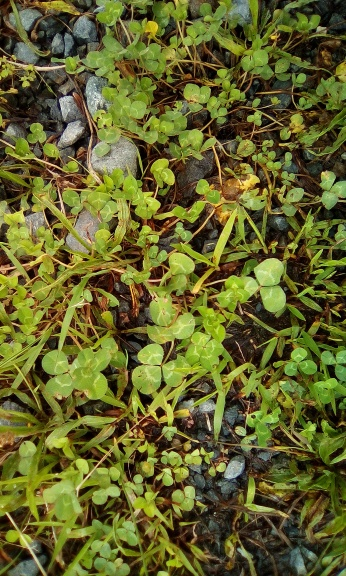4leaf: (184, 331, 224, 374), (216, 275, 251, 313), (197, 306, 226, 343)
